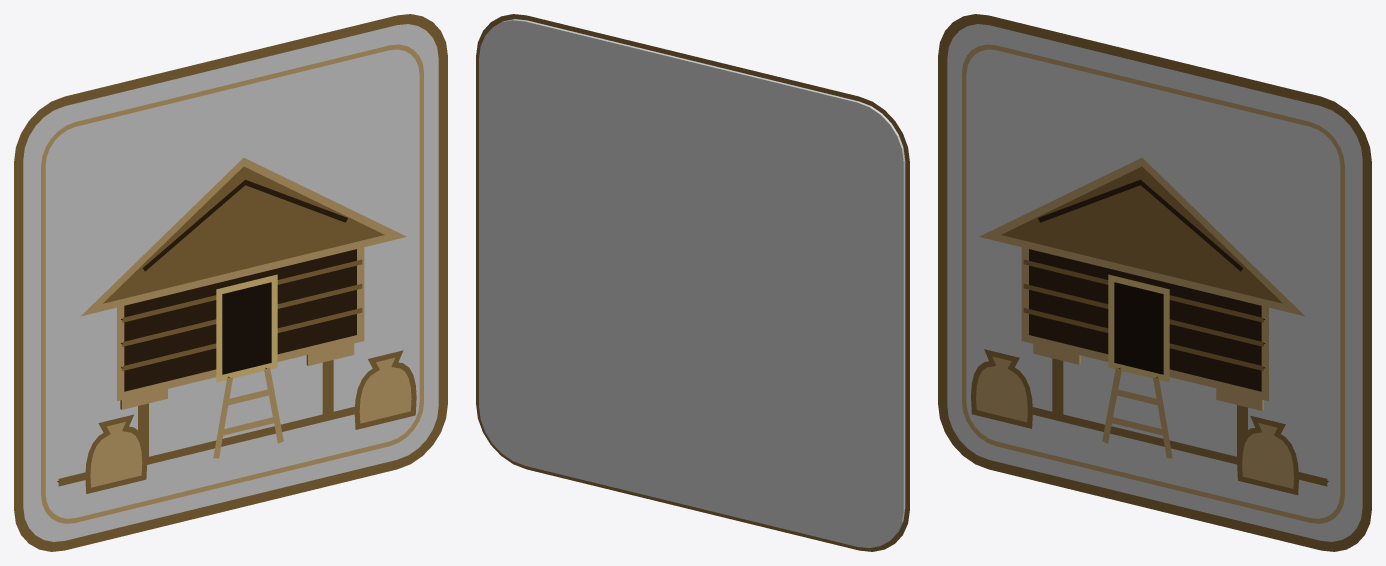
File: obj-ambar.glb
The picture shows the model from 3 angles, left to right: view 1: azimuth 30°, elevation 25°; view 2: azimuth 150°, elevation 25°; view 3: azimuth 330°, elevation 25°; orthographic projection.
Visible parts, largest first — view 1: obj-ambar; view 2: obj-ambar; view 3: obj-ambar.
Boxes of the visible parts, x1,y1,x2,y2 form: obj-ambar: (14,14,447,551); obj-ambar: (476,14,909,551); obj-ambar: (938,14,1371,551).
Bounding box in the file's own units: 0.3917 × 0.3917 × 0.0351.
